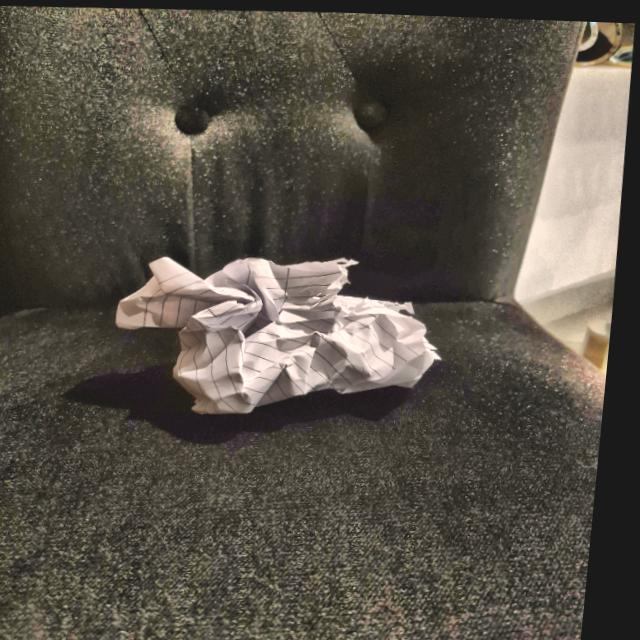Paper: (98, 246, 455, 416)
